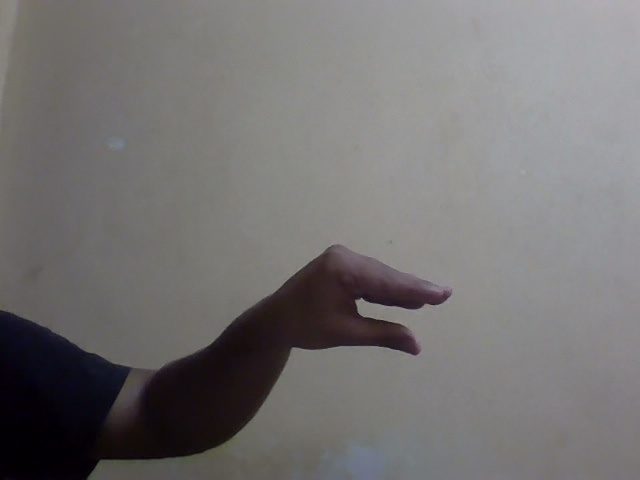No: (233, 230, 469, 381)
